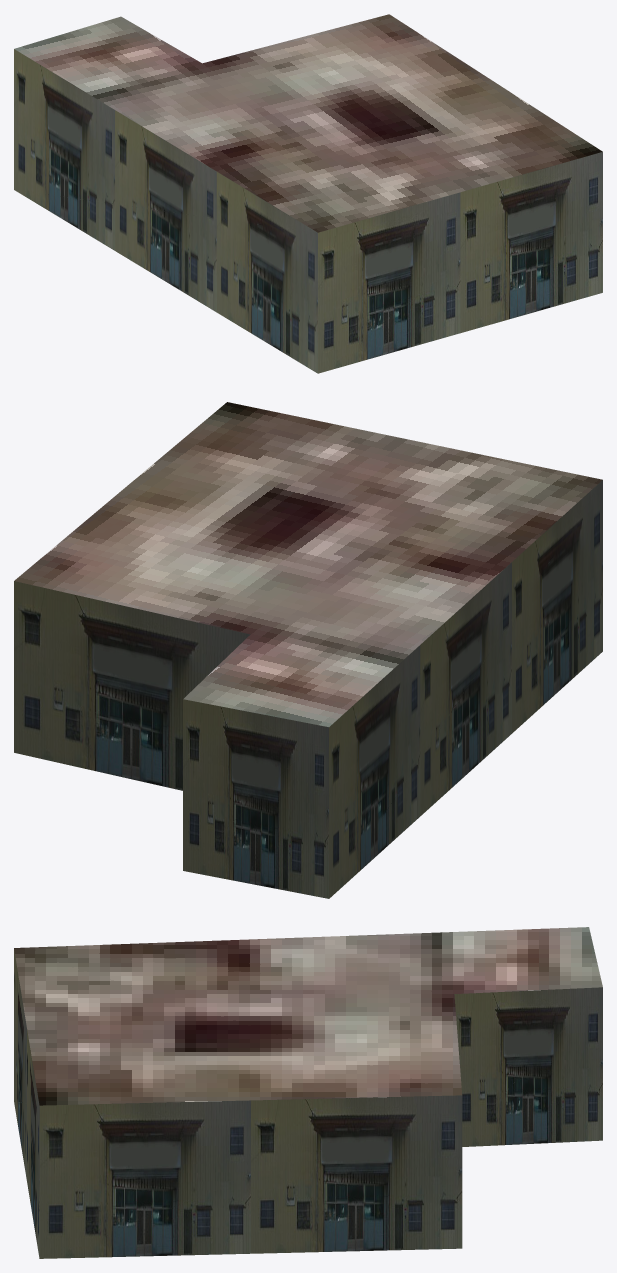
The picture shows the model from 3 angles, top to bottom: view 1: azimuth 30°, elevation 25°; view 2: azimuth 150°, elevation 25°; view 3: azimuth 270°, elevation 25°; orthographic projection. The views are drawn at different scales.
Visible parts, largest first — view 1: SketchUp (×3); view 2: SketchUp (×4); view 3: SketchUp (×4).
Part boxes in pixels (x1,y1,x2,y2): SketchUp (×3): (14,14,602,373); SketchUp (×4): (14,402,602,898); SketchUp (×4): (14,927,602,1258).
Bounding box in the file's own units: 10.04 × 13.99 × 4.02.
Materials: 2 (2 with a texture image).
